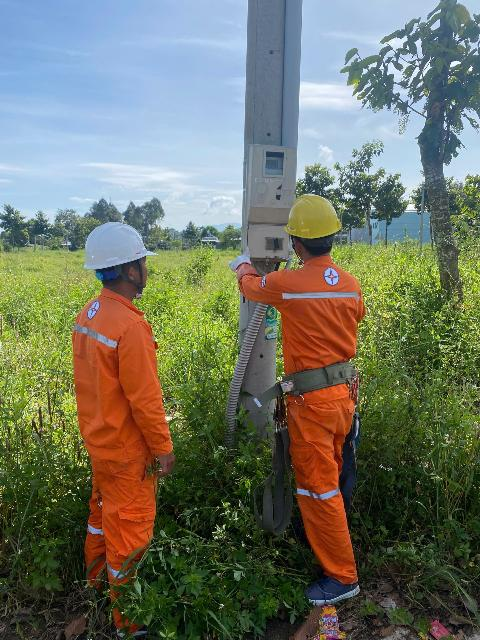gloves: (228, 251, 255, 287)
harness: (260, 365, 369, 398)
helmet: (76, 225, 162, 269), (283, 190, 342, 243)
shoes: (294, 561, 376, 615)
